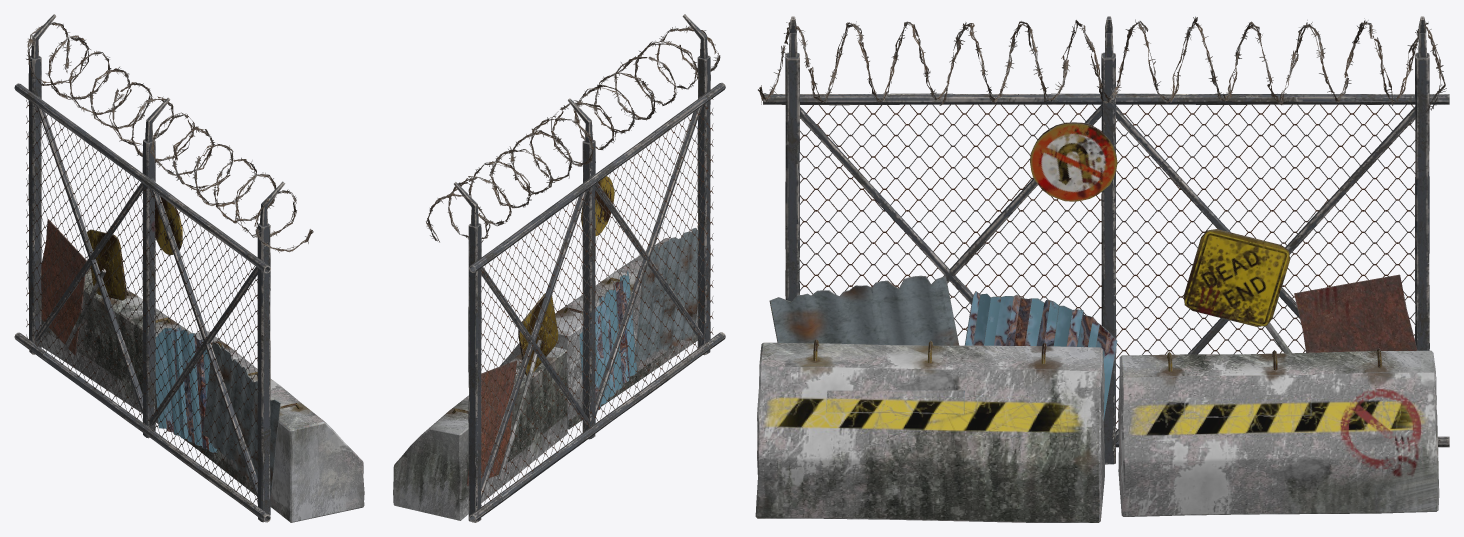
File: damaged_roadblock_01.glb
3 renders of one model, left to right at view 1: azimuth 30°, elevation 25°; view 2: azimuth 150°, elevation 25°; view 3: azimuth 270°, elevation 25°, orthographic. The views are drawn at different scales.
Parts seen in each view (by area): view 1: Material_001-material, Material_002-material, Material_003-material; view 2: Material_001-material, Material_002-material, Material_003-material; view 3: Material_001-material, Material_002-material, Material_003-material.
Part boxes in pixels (box(x1,y1,x2,y2)): Material_001-material: box(14, 14, 364, 522); Material_002-material: box(26, 100, 258, 503); Material_003-material: box(26, 22, 313, 252); Material_001-material: box(393, 14, 725, 522); Material_002-material: box(481, 98, 713, 507); Material_003-material: box(426, 25, 720, 242); Material_001-material: box(755, 16, 1449, 522); Material_002-material: box(799, 104, 1415, 429); Material_003-material: box(758, 16, 1446, 112).
Size of the model in its own units: 0.8723 by 2.54 by 3.48.
Materials: 3 (3 with a texture image).
